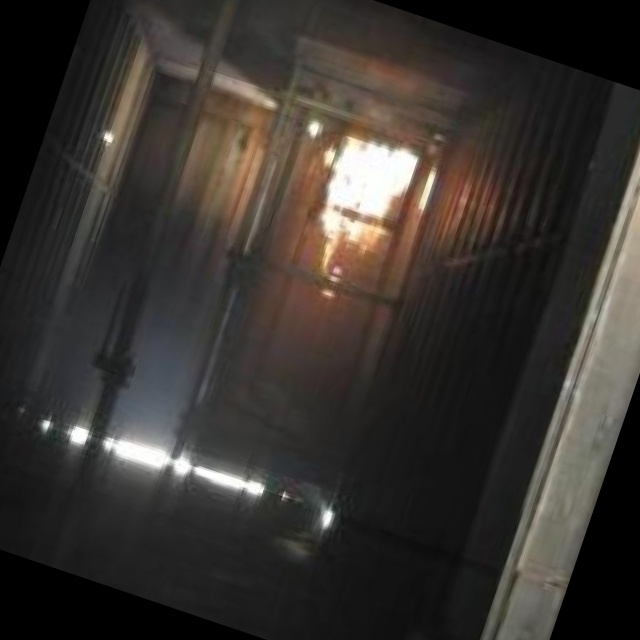fire: (278, 115, 429, 328)
